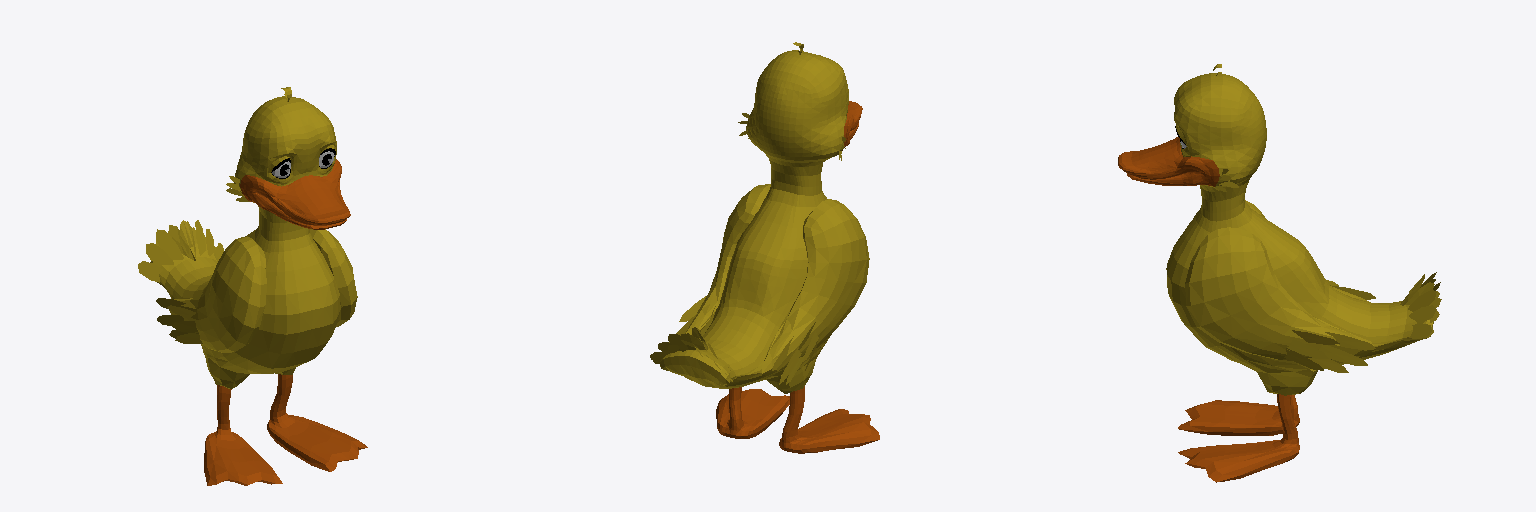
Rendered from duck.obj.
3 renders of one model, left to right at view 1: azimuth 30°, elevation 25°; view 2: azimuth 150°, elevation 25°; view 3: azimuth 270°, elevation 25°, orthographic.
Visible parts, largest first — view 1: Cube; view 2: Cube; view 3: Cube.
Part boxes in pixels (left/top/right/bottom): Cube: left=138, top=87, right=367, bottom=485; Cube: left=650, top=42, right=879, bottom=453; Cube: left=1118, top=64, right=1441, bottom=482.
Size of the model in its own units: 1.64 by 3.71 by 2.86.